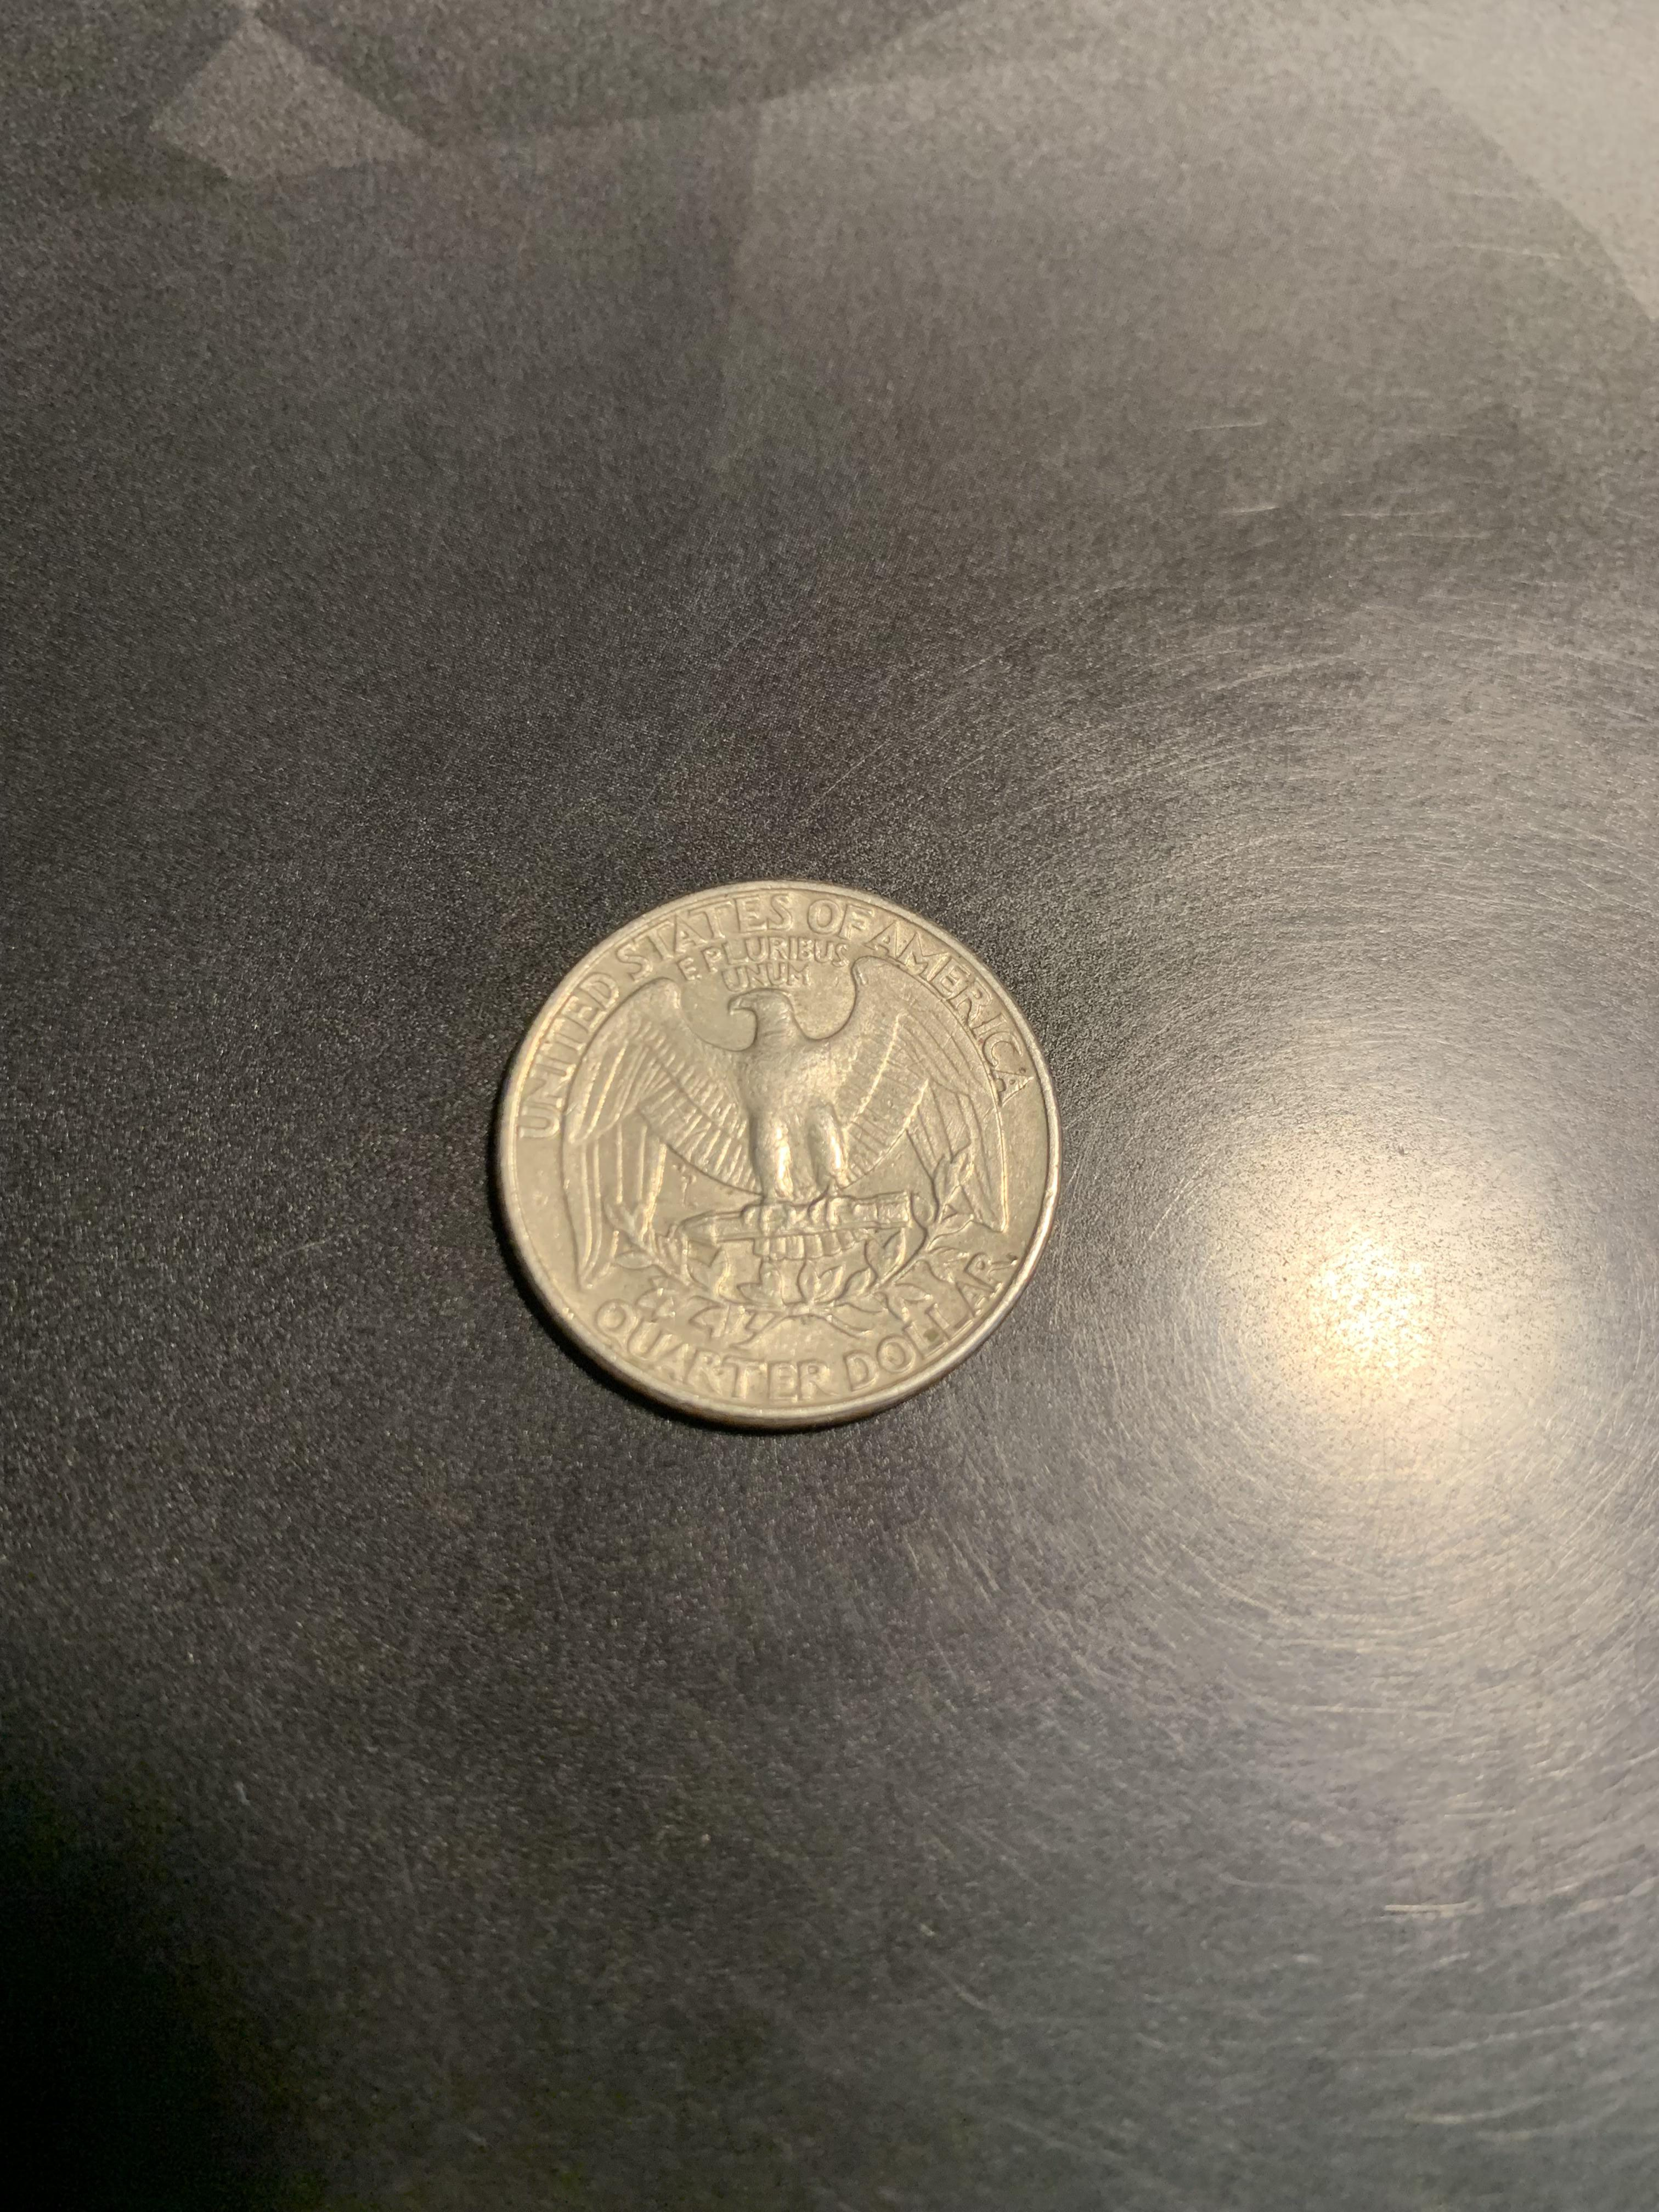Quarter: (465, 867, 1075, 1454)
